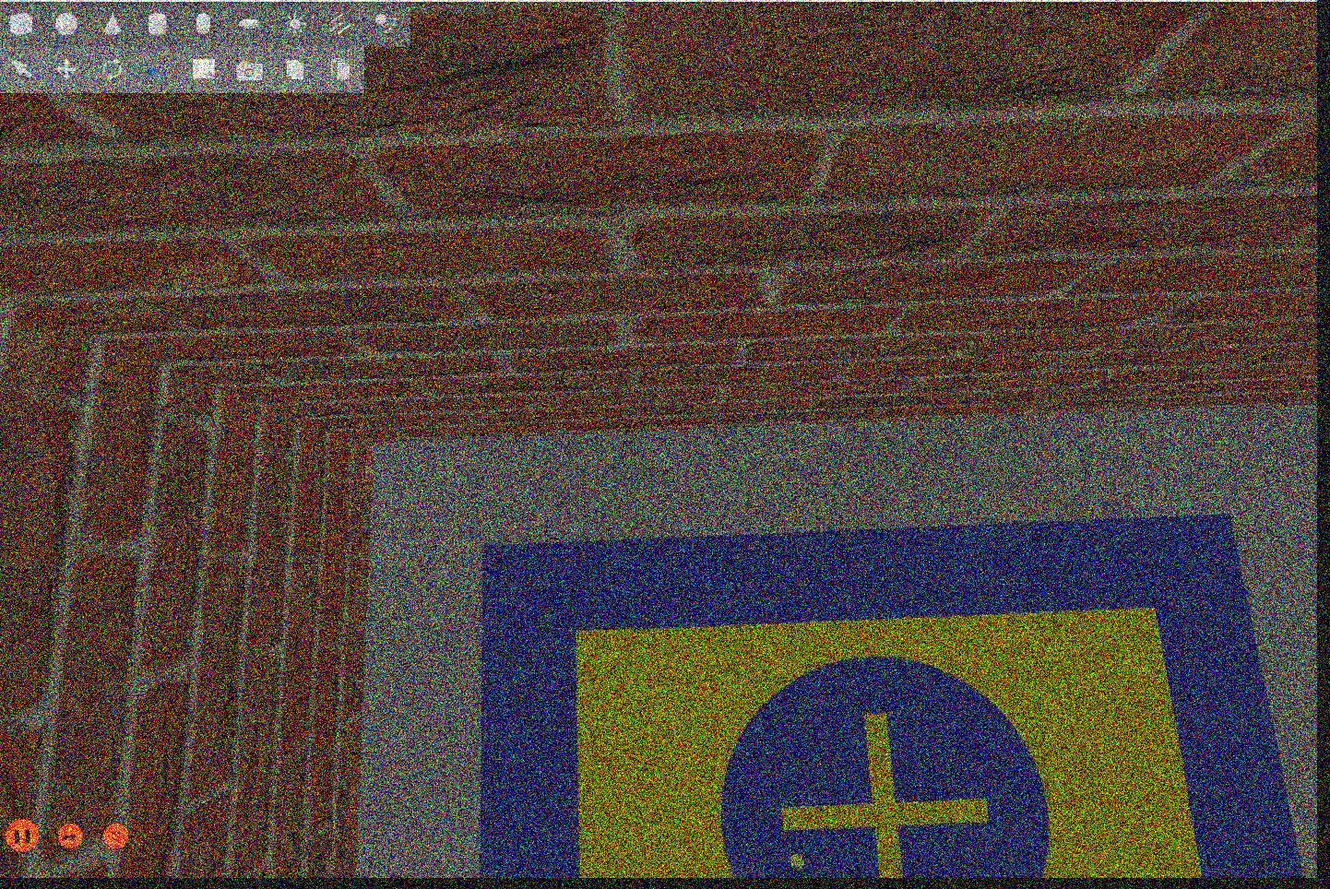large_base: (478, 513, 1305, 880)
